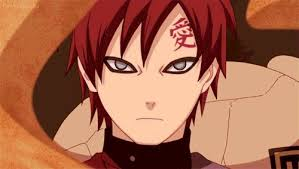gaara: (77, 3, 223, 148)
